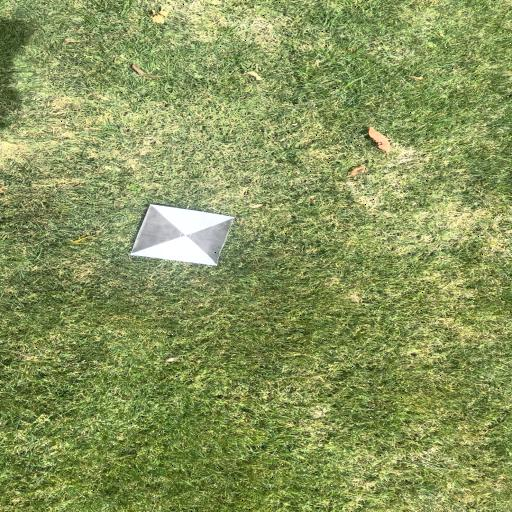target: (132, 205, 234, 265)
